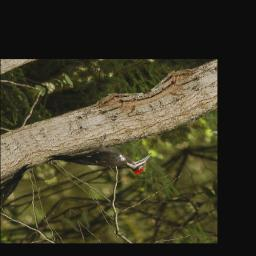Woodpecker: (40, 121, 161, 200)
